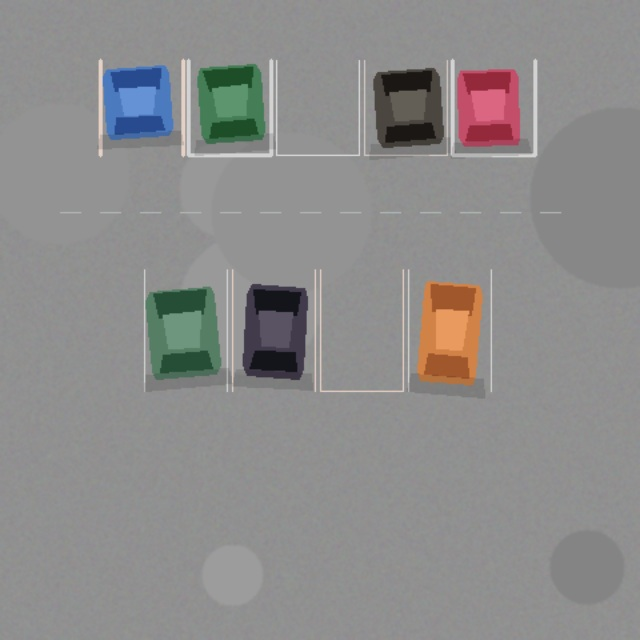space-empty: (320, 269, 403, 391), (276, 60, 359, 155)
space-occupied: (144, 269, 227, 391), (232, 269, 315, 391), (408, 269, 491, 391), (100, 60, 183, 155), (188, 60, 271, 155), (364, 60, 447, 155), (452, 60, 535, 155)
